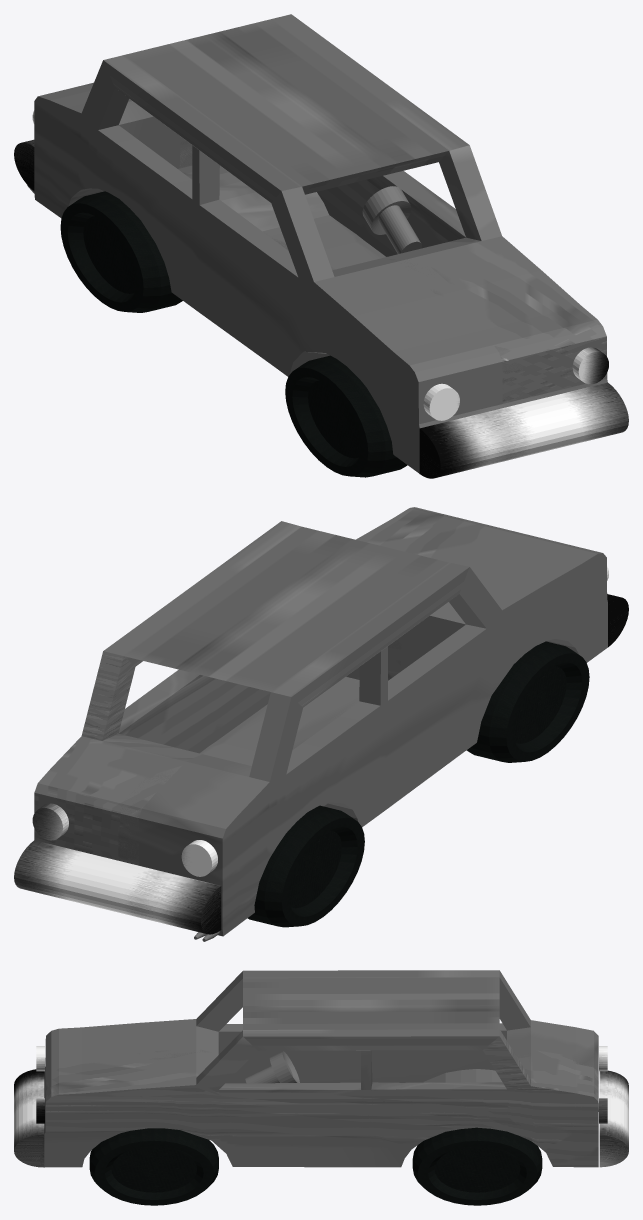
File: red car.fbx
3 renders of one model, top to bottom at view 1: azimuth 30°, elevation 25°; view 2: azimuth 150°, elevation 25°; view 3: azimuth 270°, elevation 25°, orthographic. The views are drawn at different scales.
Parts seen in each view (by area): view 1: red car; view 2: red car; view 3: red car.
Boxes of the visible parts, left/top/right/bottom form: red car: left=14, top=14, right=628, bottom=478; red car: left=14, top=507, right=628, bottom=941; red car: left=14, top=970, right=628, bottom=1205.
Size of the model in its own units: 1277 by 1274 by 4271.
